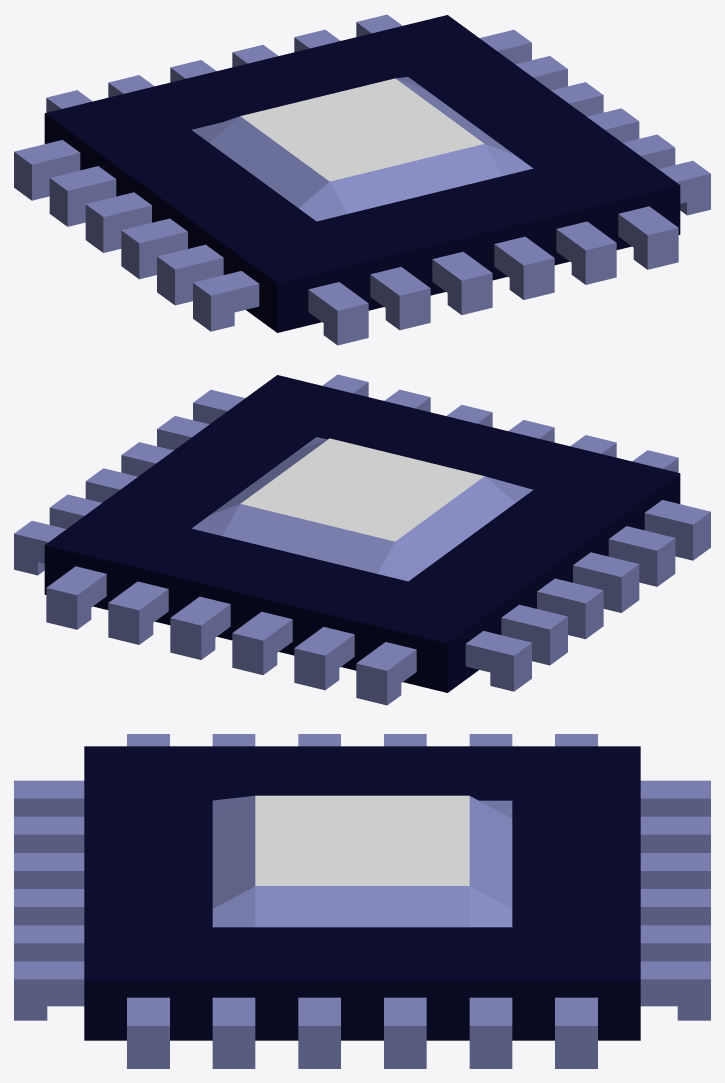
File: chip.fbx
3 views of the same model, one above another, from view 1: azimuth 30°, elevation 25°; view 2: azimuth 150°, elevation 25°; view 3: azimuth 270°, elevation 25° (orthographic). The views are drawn at different scales.
Parts seen in each view (by area): view 1: Cube; view 2: Cube; view 3: Cube.
Boxes of the visible parts, <box> form: Cube: <box>14,14,710,345</box>; Cube: <box>14,374,710,705</box>; Cube: <box>14,734,710,1068</box>.
Bounding box in the file's own units: 248 × 32.61 × 251.
